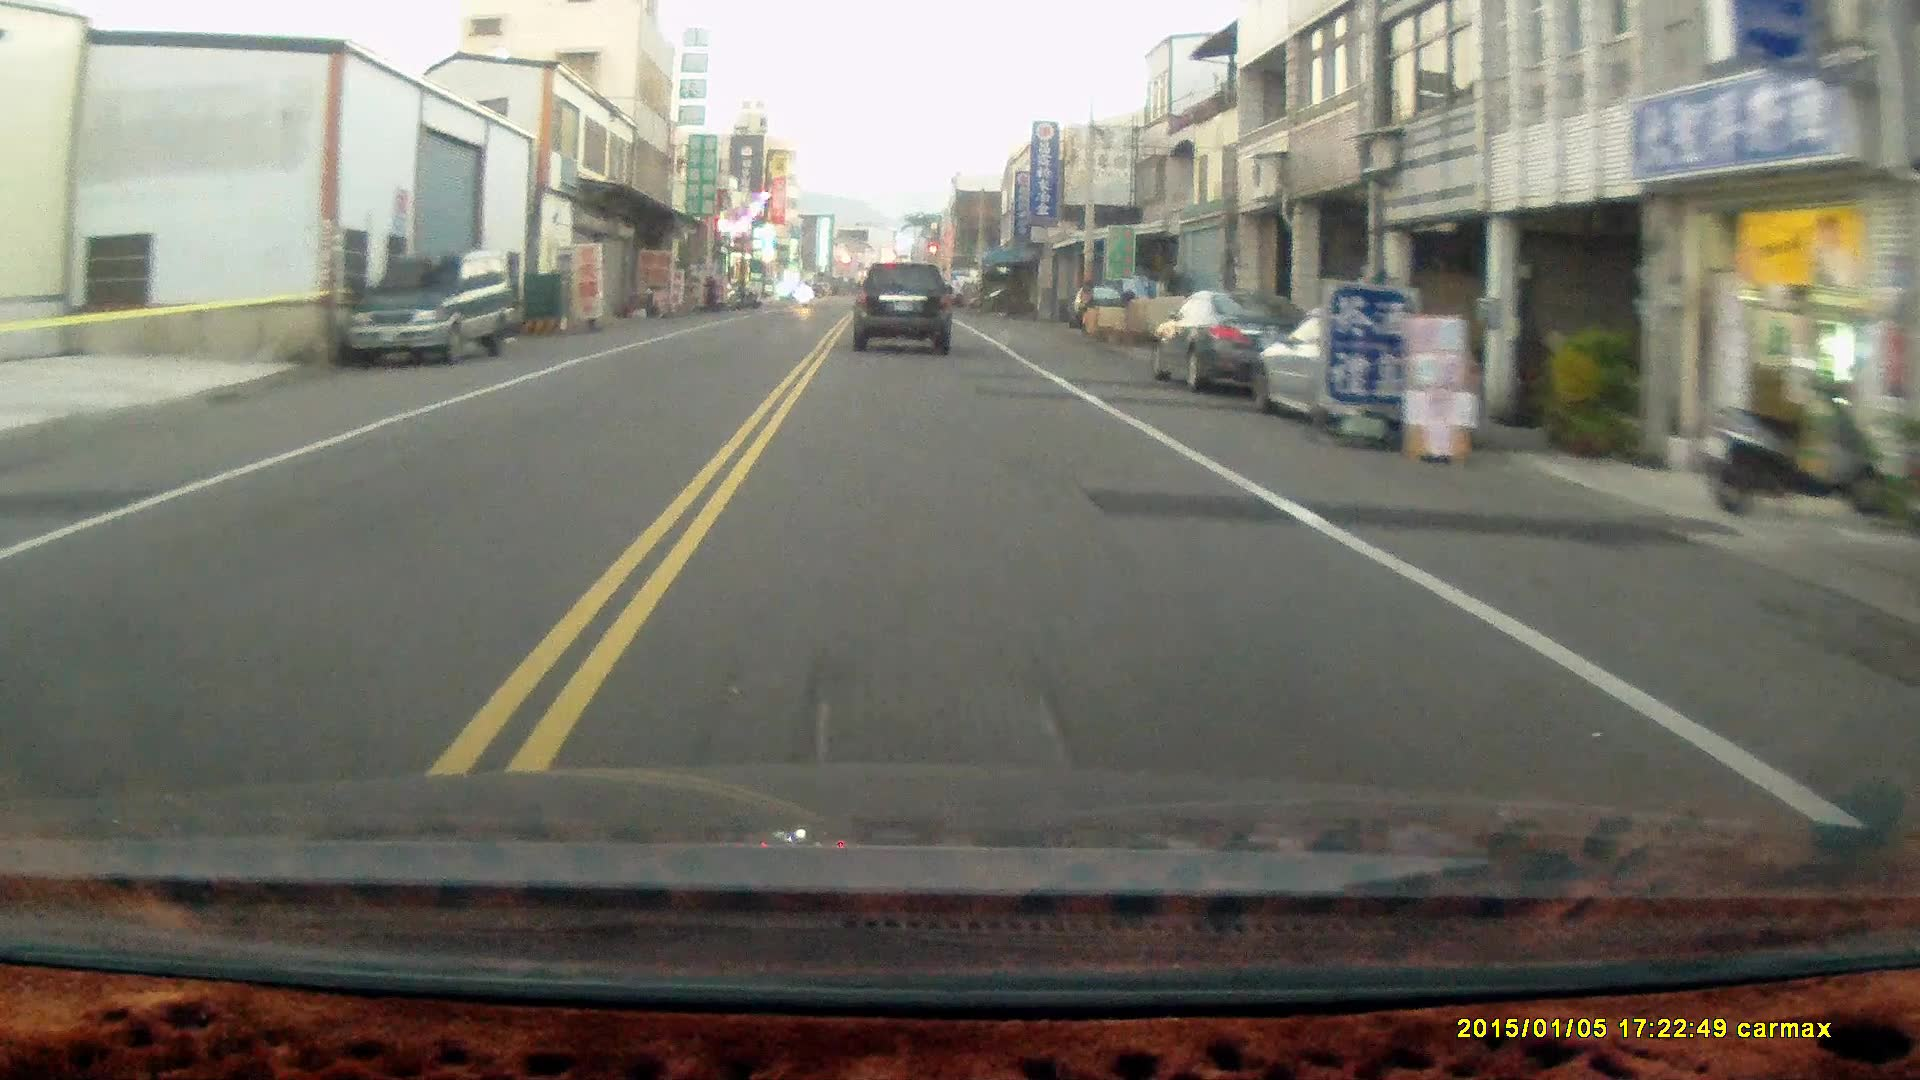vehicle: (1251, 314, 1487, 440), (344, 253, 517, 371), (1147, 291, 1317, 398), (851, 264, 953, 357)
